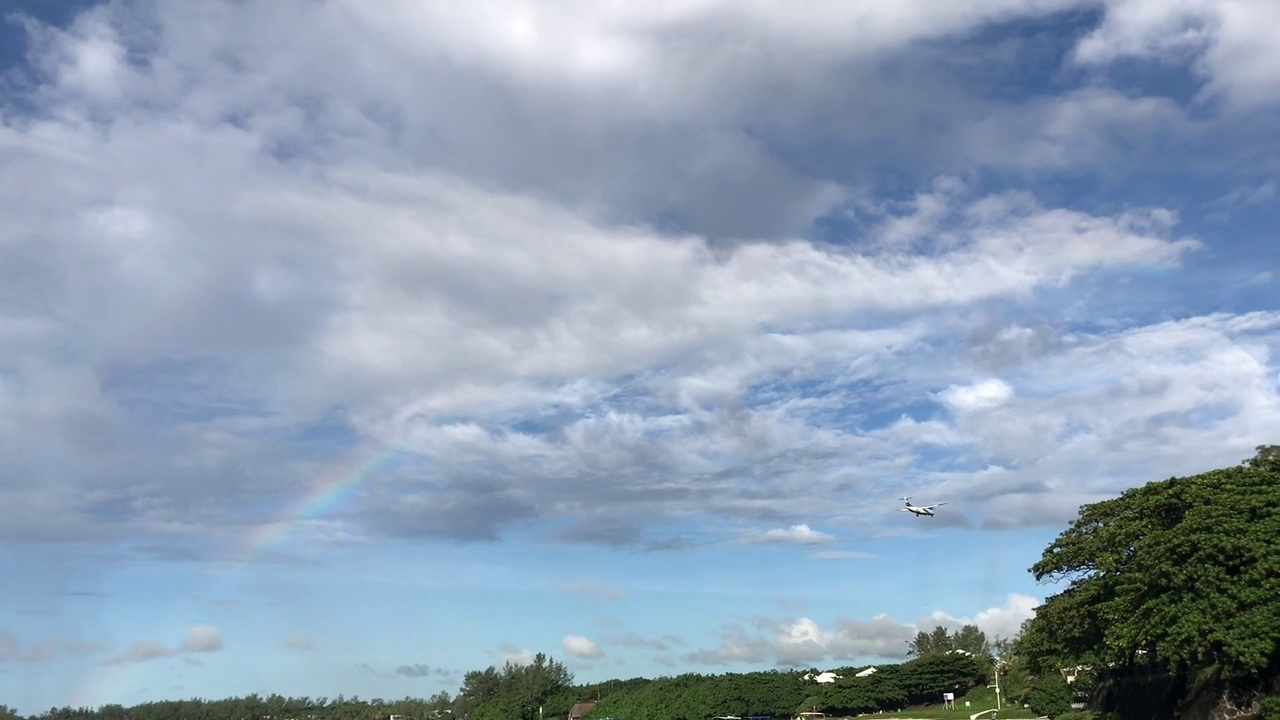plane: (895, 496, 947, 518)
